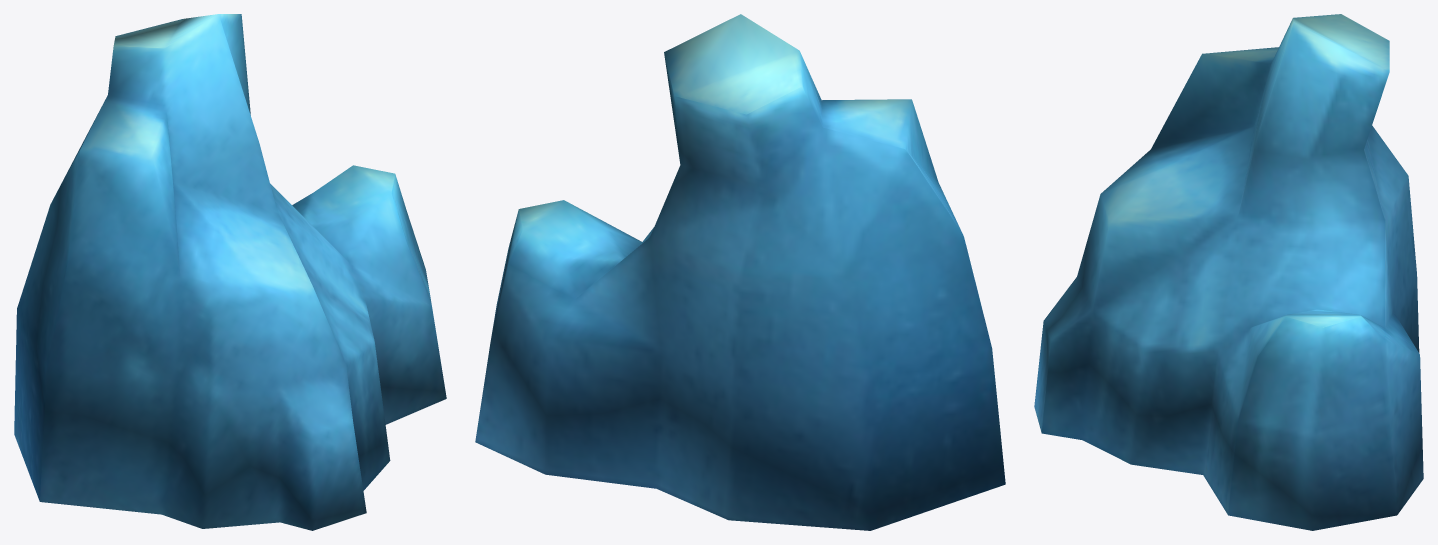
The model's file is Stage_BingYuan_BingLing01.FBX.
3 renders of one model, left to right at view 1: azimuth 30°, elevation 25°; view 2: azimuth 150°, elevation 25°; view 3: azimuth 270°, elevation 25°, orthographic. The views are drawn at different scales.
Visible parts, largest first — view 1: Stage_BingYuan_BingLing01; view 2: Stage_BingYuan_BingLing01; view 3: Stage_BingYuan_BingLing01.
Boxes of the visible parts, x1=… form: Stage_BingYuan_BingLing01: x1=14, y1=14, x2=446, y2=530; Stage_BingYuan_BingLing01: x1=475, y1=14, x2=1005, y2=530; Stage_BingYuan_BingLing01: x1=1034, y1=14, x2=1423, y2=530.
Bounding box in the file's own units: 165 × 147 × 129.
